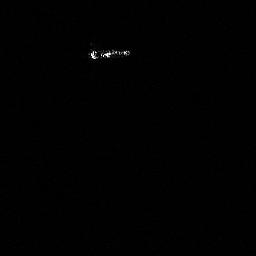ship: (86, 46, 133, 61)
